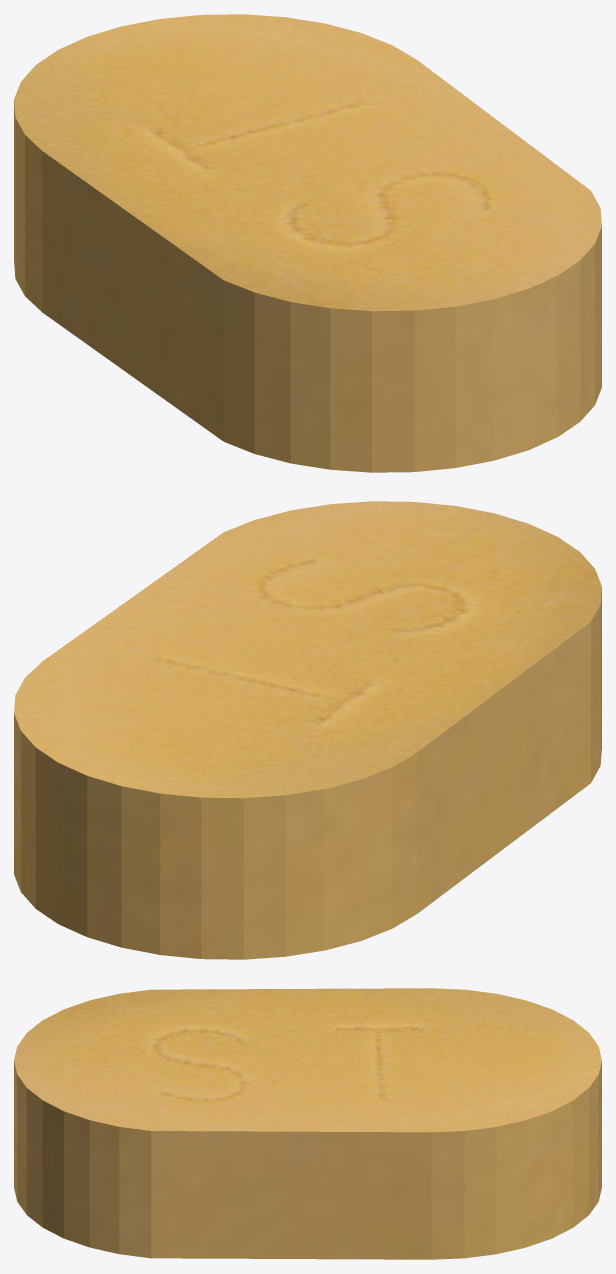
The picture shows the model from 3 angles, top to bottom: view 1: azimuth 30°, elevation 25°; view 2: azimuth 150°, elevation 25°; view 3: azimuth 270°, elevation 25°; orthographic projection. The views are drawn at different scales.
Visible parts, largest first — view 1: 圓柱體; view 2: 圓柱體; view 3: 圓柱體.
Part boxes in pixels (<box>): 圓柱體: <box>14,14,601,472</box>; 圓柱體: <box>14,501,601,959</box>; 圓柱體: <box>14,988,601,1259</box>.
Size of the model in its own units: 1.7 by 0.7007 by 2.93.
